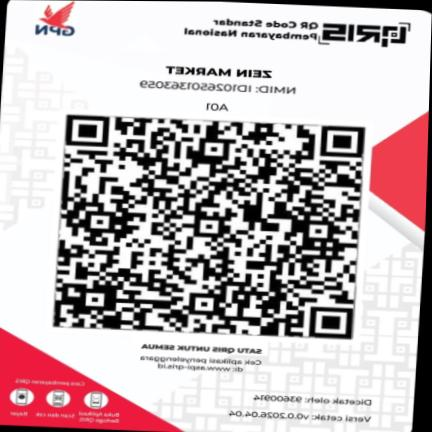Barcode_Palsu: (43, 109, 375, 345)
